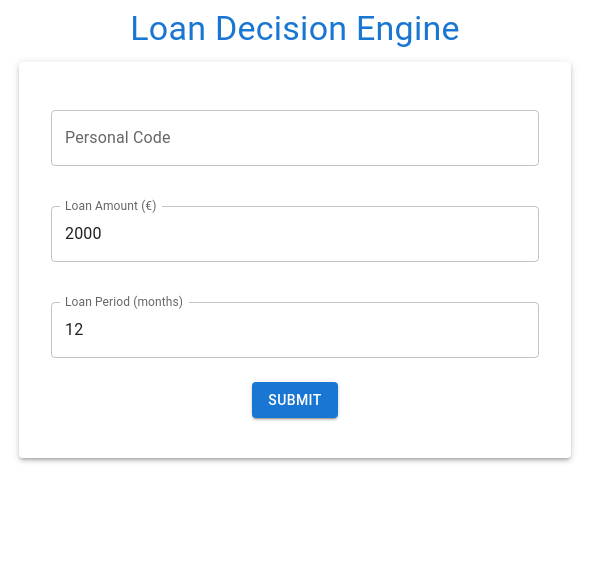
Test: App Component › displays an error message for "Unknown personal code"
The width and height of the screenshot is (591, 564).
Type "12345678901" into the field labelled "Personal Code" at (295, 138), box [51,110,539,166]
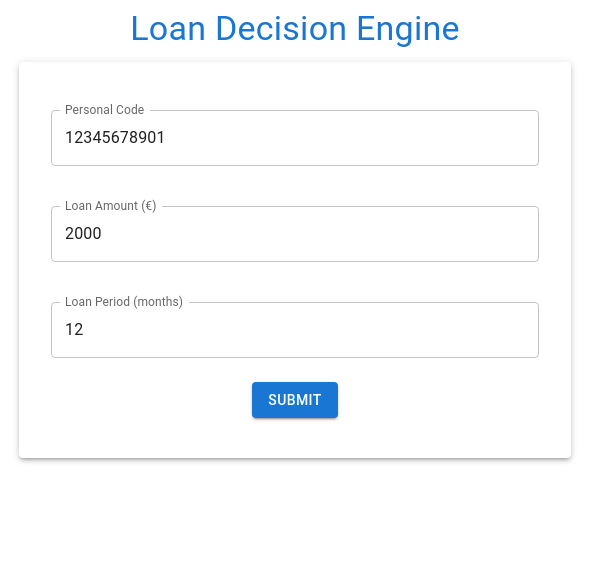
Replace the text in the number field labelled "Loan Amount (€)" with "5000" at (295, 234), box [51,206,539,262]
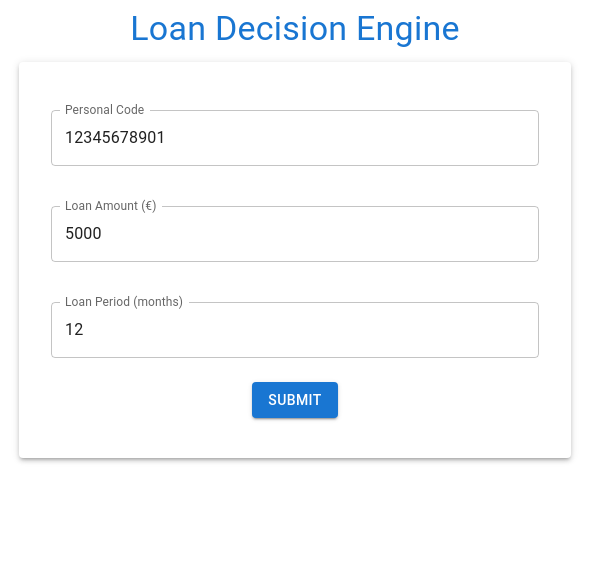
Replace the text in the number field labelled "Loan Period (months)" with "24" at (295, 330), box [51,302,539,358]
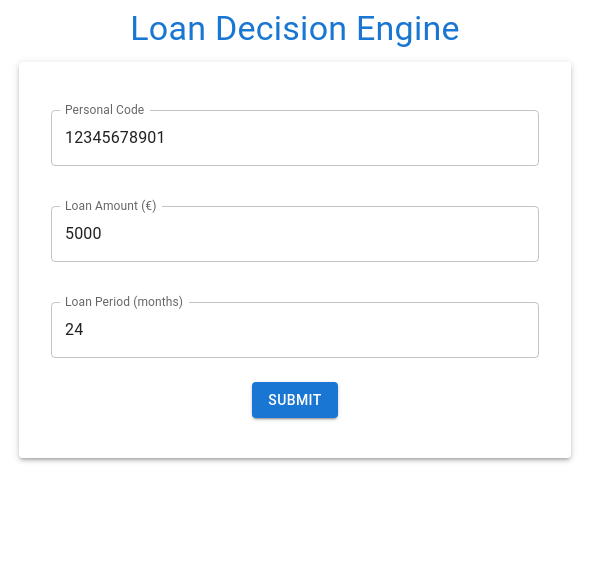
Click the button "Submit" at (295, 400), box [252,382,338,418]
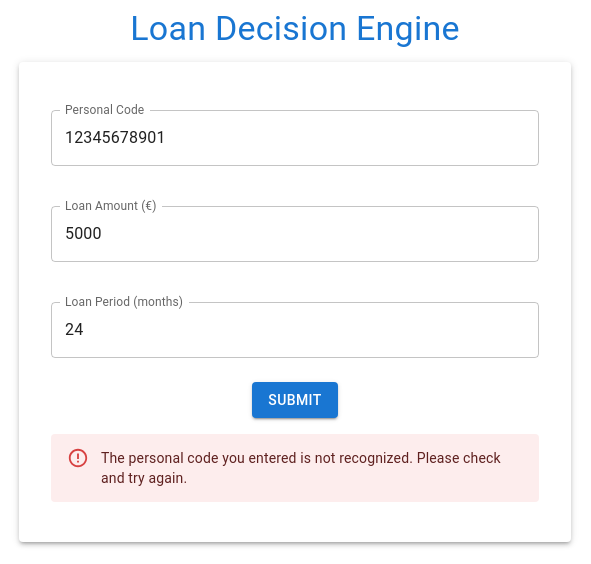
Result: the text "The personal code you entered is not recognized. Please check and try again." is shown at [101,440,523,496]
